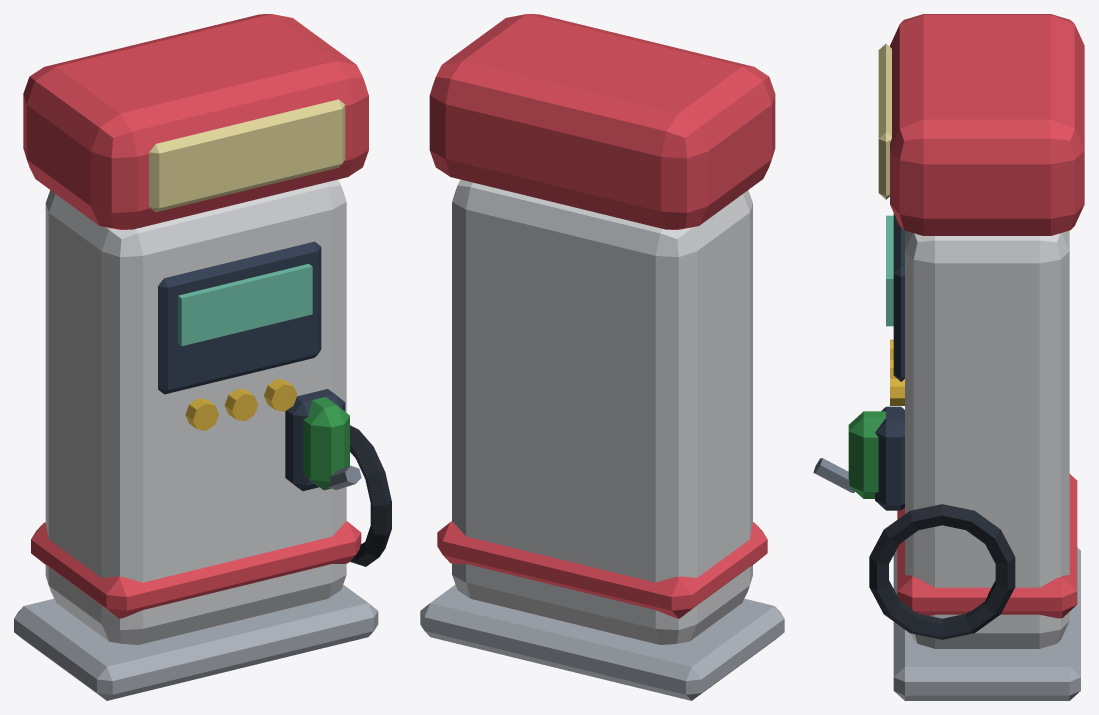
File: fuel-pump.glb
The picture shows the model from 3 angles, left to right: view 1: azimuth 30°, elevation 25°; view 2: azimuth 150°, elevation 25°; view 3: azimuth 270°, elevation 25°; orthographic projection.
Visible parts, largest first — view 1: fuel_pump; view 2: fuel_pump; view 3: fuel_pump.
Boxes of the visible parts, x1=… form: fuel_pump: x1=14, y1=14, x2=391, y2=700; fuel_pump: x1=420, y1=14, x2=784, y2=700; fuel_pump: x1=813, y1=14, x2=1084, y2=700.
Bounding box in the file's own units: 0.86 × 1.68 × 0.7244.
